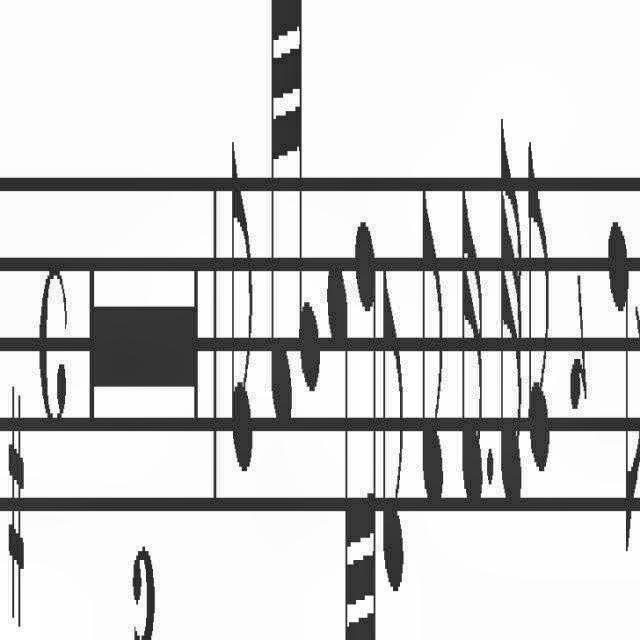Diez: (8, 384, 24, 628)
Eighth-note: (604, 209, 640, 565), (524, 130, 552, 474), (230, 133, 256, 487), (422, 166, 446, 506), (382, 260, 406, 596)
Eighth-rest: (570, 267, 586, 413)
Sixteenth-note: (462, 166, 484, 509)
